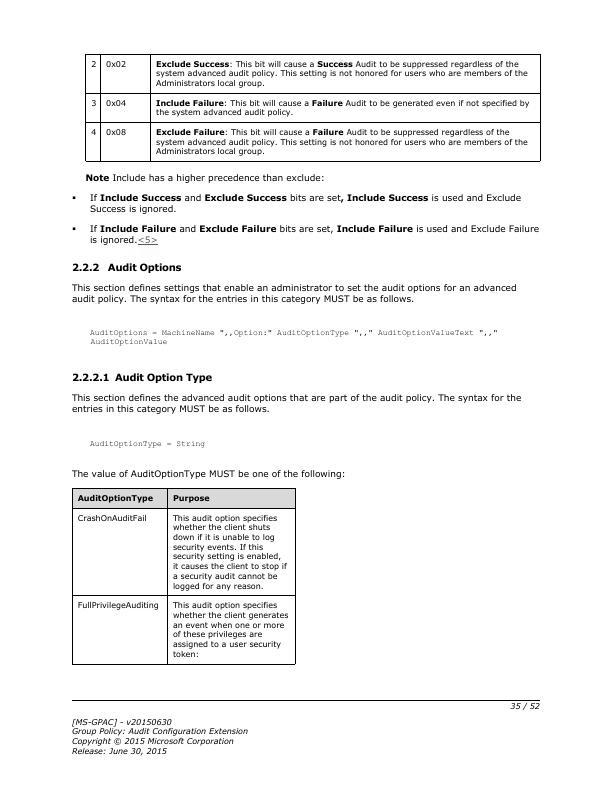table: (82, 51, 544, 165), (70, 485, 299, 669)
text: (87, 220, 541, 247), (69, 391, 525, 417), (69, 280, 518, 305), (87, 191, 521, 214), (86, 326, 500, 347), (68, 713, 253, 756), (69, 466, 349, 481), (82, 171, 326, 182), (68, 370, 215, 387), (87, 436, 210, 452), (68, 259, 183, 275)
